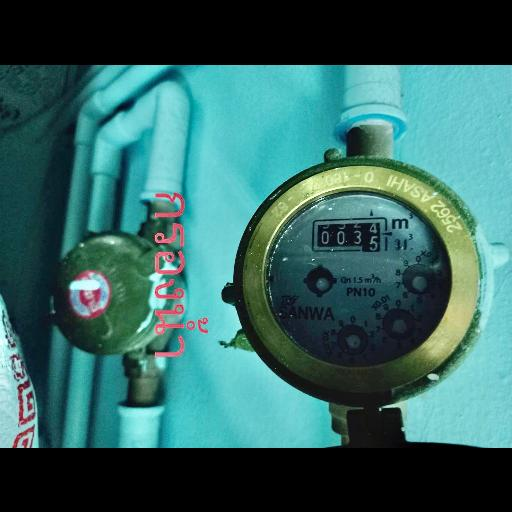0: (332, 223, 349, 246), (318, 224, 333, 246)
3: (348, 223, 364, 246)
4: (364, 222, 381, 251)
border_water_meter_number: (312, 216, 387, 252)
